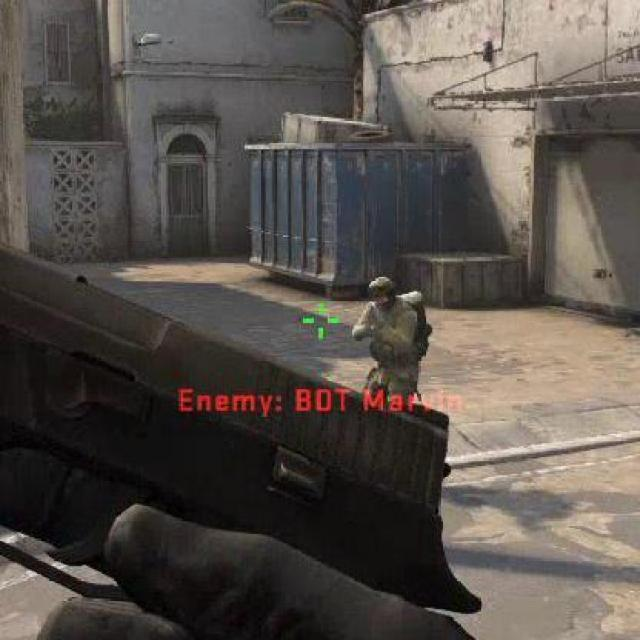CT-Body: (366, 274, 396, 310)
CT-Head: (346, 269, 429, 386)
